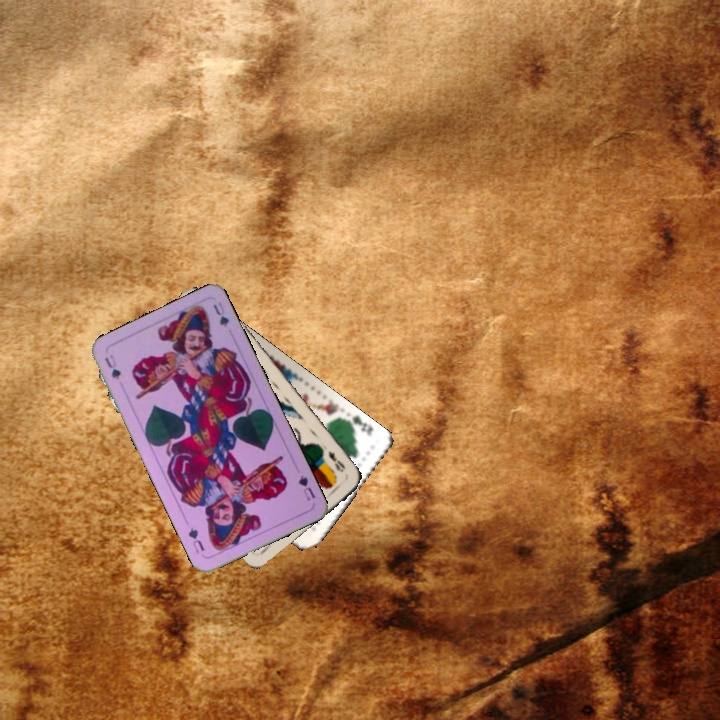EO: (324, 447, 348, 475)
GK: (342, 411, 376, 438)
GU: (294, 471, 318, 503), (101, 350, 124, 383)
